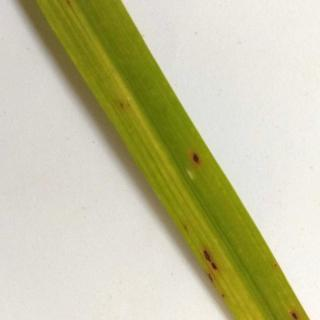Blast: (188, 216, 252, 310), (179, 130, 219, 188)
